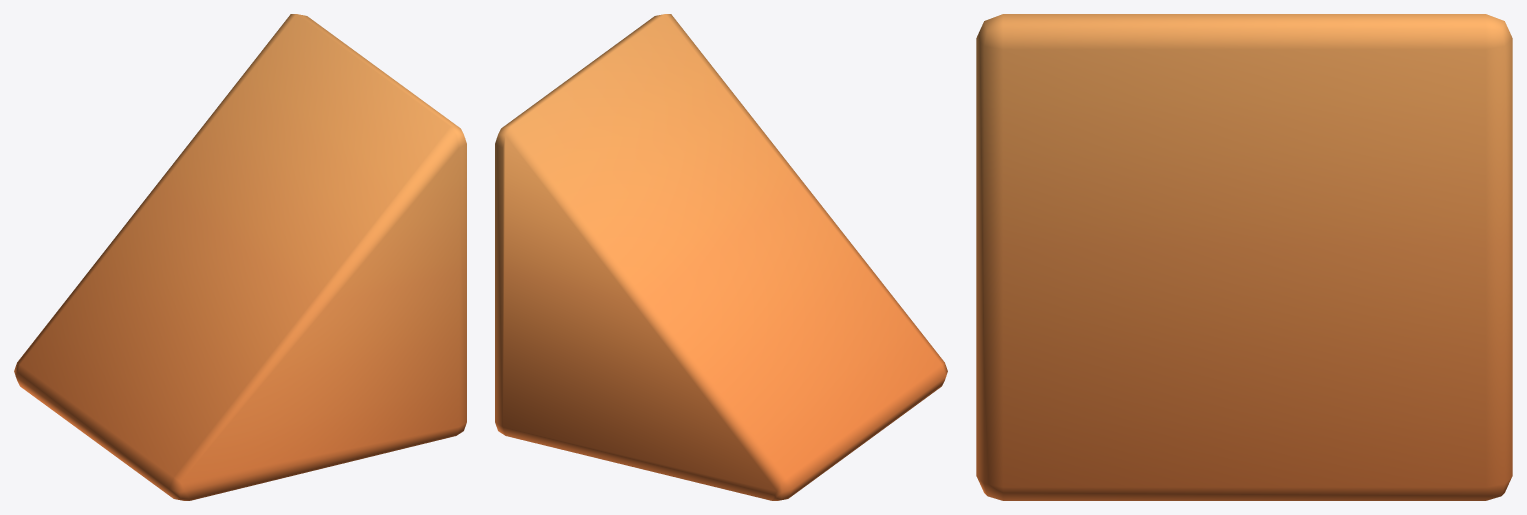
Rendered from 3D_Tile_Ground_Slope_02.glb.
3 renders of one model, left to right at view 1: azimuth 30°, elevation 25°; view 2: azimuth 150°, elevation 25°; view 3: azimuth 270°, elevation 25°, orthographic. The views are drawn at different scales.
Parts seen in each view (by area): view 1: 3D_Tile_Ground_Slope_02; view 2: 3D_Tile_Ground_Slope_02; view 3: 3D_Tile_Ground_Slope_02.
Boxes of the visible parts, x1,y1,x2,y2 form: 3D_Tile_Ground_Slope_02: [14, 14, 466, 500]; 3D_Tile_Ground_Slope_02: [495, 14, 947, 500]; 3D_Tile_Ground_Slope_02: [976, 14, 1512, 500].
Size of the model in its own units: 2 by 2 by 2.
Materials: 1 (1 with a texture image).
